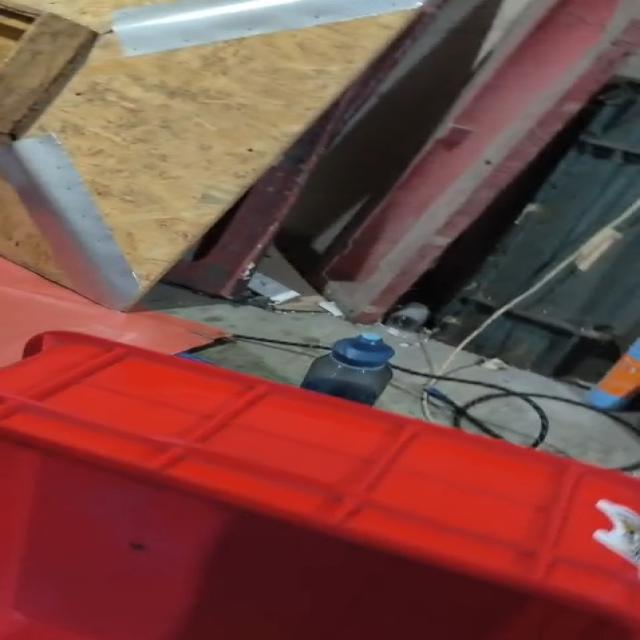red plastic box: (0, 330, 639, 639)
